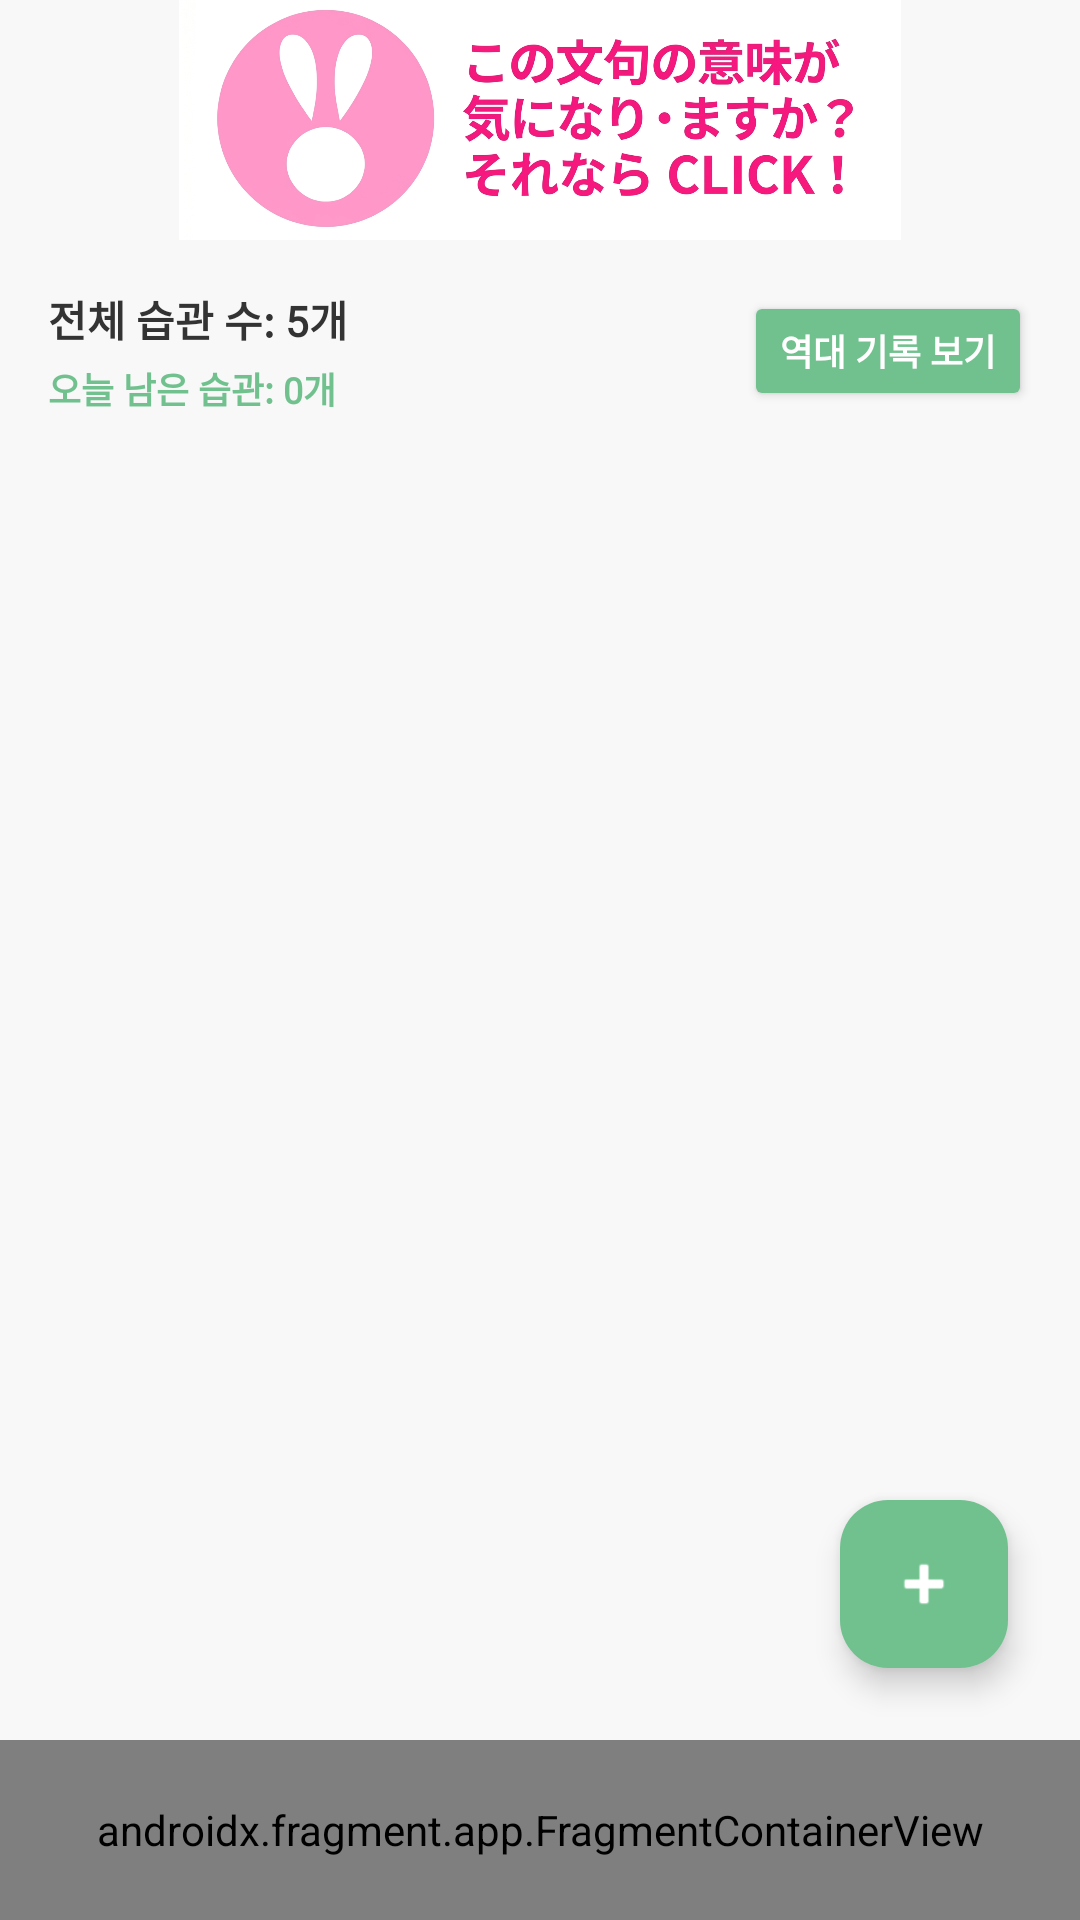

Icon click points for this 1080×1920 phone screenshot, format (x,y):
add: (924,1584)
